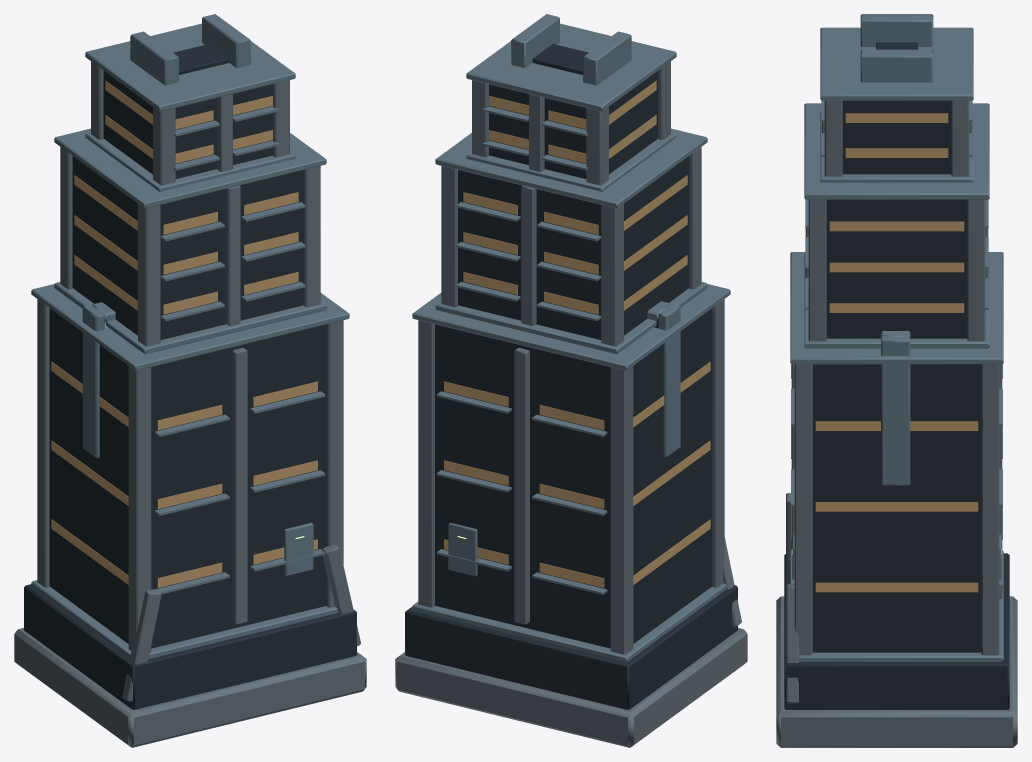
The model's file is kit-low-v1.glb.
3 renders of one model, left to right at view 1: azimuth 30°, elevation 25°; view 2: azimuth 150°, elevation 25°; view 3: azimuth 270°, elevation 25°, orthographic. The views are drawn at different scales.
Parts seen in each view (by area): view 1: building-block_graphite, building-block_concrete, building-block_alloy, building-block_window, billboard-frame_alloy; view 2: building-block_graphite, building-block_concrete, building-block_alloy, building-block_window, billboard-frame_alloy; view 3: building-block_graphite, building-block_concrete, building-block_alloy, building-block_window, billboard-frame_alloy.
Boxes of the visible parts, box(x1,y1,x2,y2) form: building-block_graphite: box(24, 44, 356, 709); building-block_concrete: box(14, 61, 366, 747); building-block_alloy: box(31, 14, 349, 658); building-block_window: box(51, 80, 317, 587); billboard-frame_alloy: box(82, 302, 115, 458); building-block_graphite: box(405, 44, 737, 709); building-block_concrete: box(395, 61, 747, 747); building-block_alloy: box(412, 14, 730, 661); building-block_window: box(444, 80, 710, 587); billboard-frame_alloy: box(647, 301, 680, 457); building-block_graphite: box(784, 42, 1009, 709); building-block_concrete: box(776, 100, 1017, 747); building-block_alloy: box(790, 14, 1003, 661); building-block_window: box(815, 113, 978, 592); billboard-frame_alloy: box(881, 331, 910, 485).
Bounding box in the file's own units: 14 × 36 × 12.
